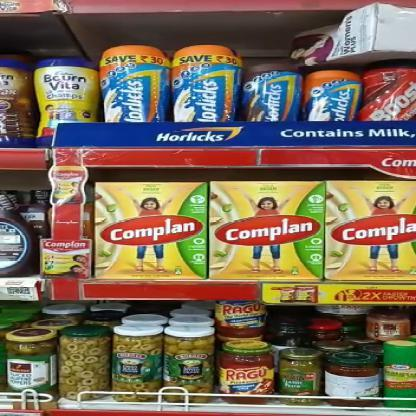Complan Pista Badam: (206, 183, 318, 278), (94, 184, 202, 278), (321, 180, 415, 282)
